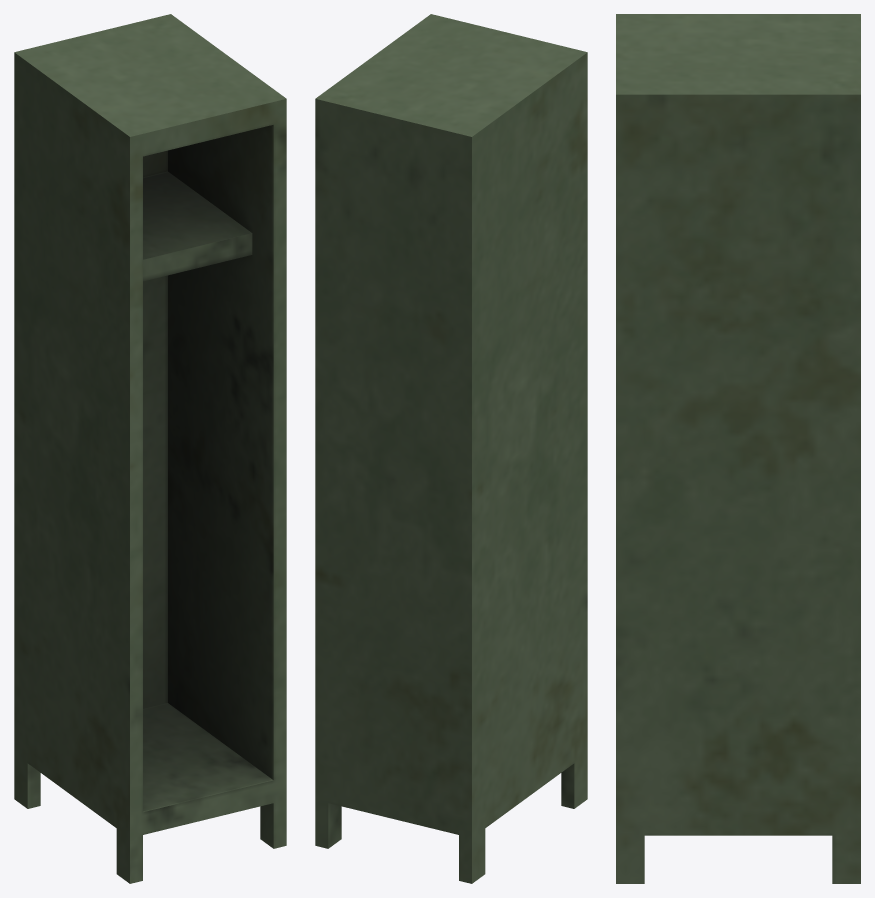
Rendered from Locker Army.fbx.
The picture shows the model from 3 angles, left to right: view 1: azimuth 30°, elevation 25°; view 2: azimuth 150°, elevation 25°; view 3: azimuth 270°, elevation 25°; orthographic projection. The views are drawn at different scales.
Parts seen in each view (by area): view 1: Gray MLocker 2; view 2: Gray MLocker 2; view 3: Gray MLocker 2.
Boxes of the visible parts, box(x1,y1,x2,y2) form: Gray MLocker 2: box(14, 14, 286, 883); Gray MLocker 2: box(315, 14, 587, 883); Gray MLocker 2: box(616, 14, 860, 883).
Bounding box in the file's own units: 34.36 × 157 × 43.99.
